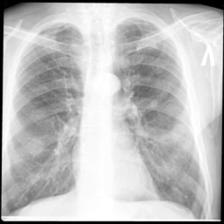tuberculosis: (5, 14, 210, 218)
